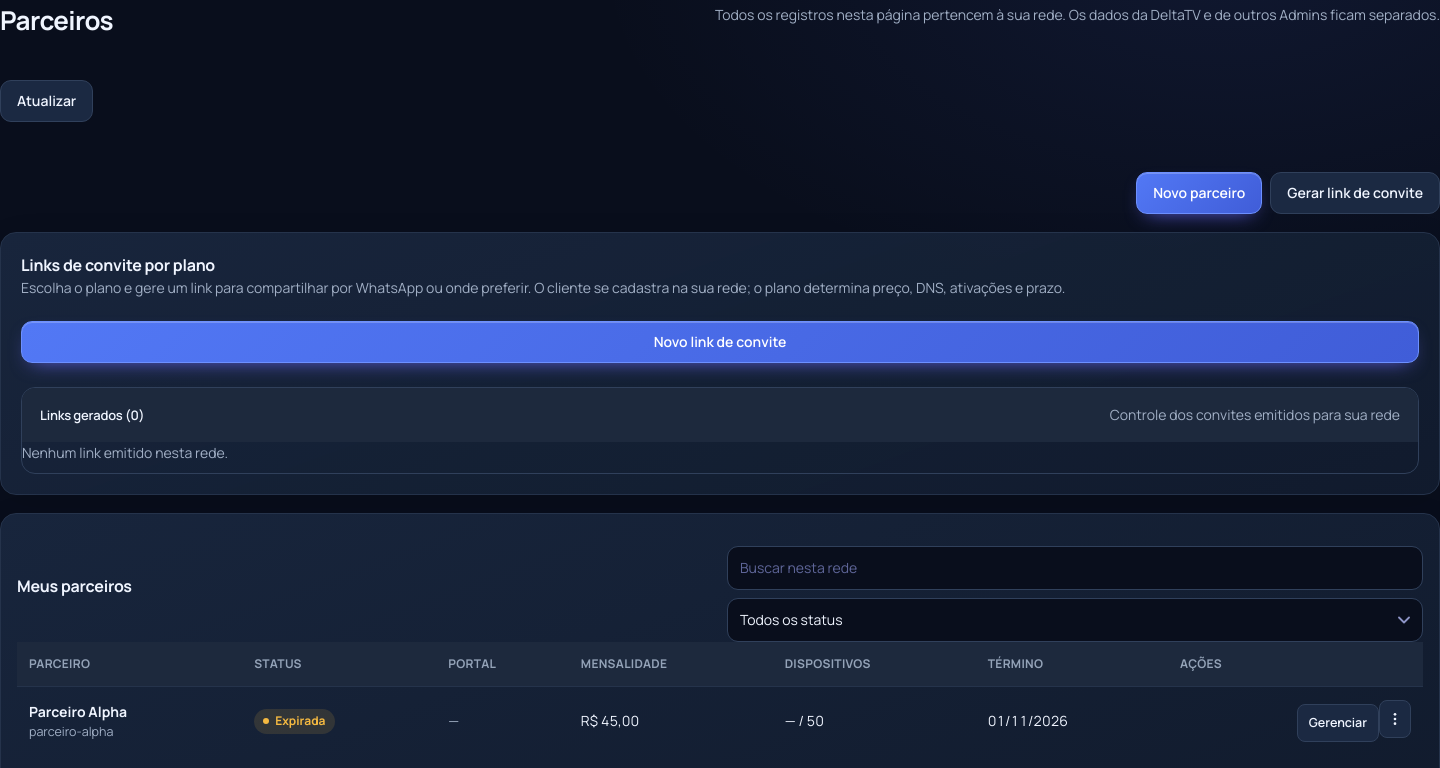
Ficha compartilhada de parceiros — Admin › edita contrato em submodal empilhado; Esc fecha apenas o de cima
Click the button "Gerenciar" at [1338, 723], box [1297, 704, 1379, 742]
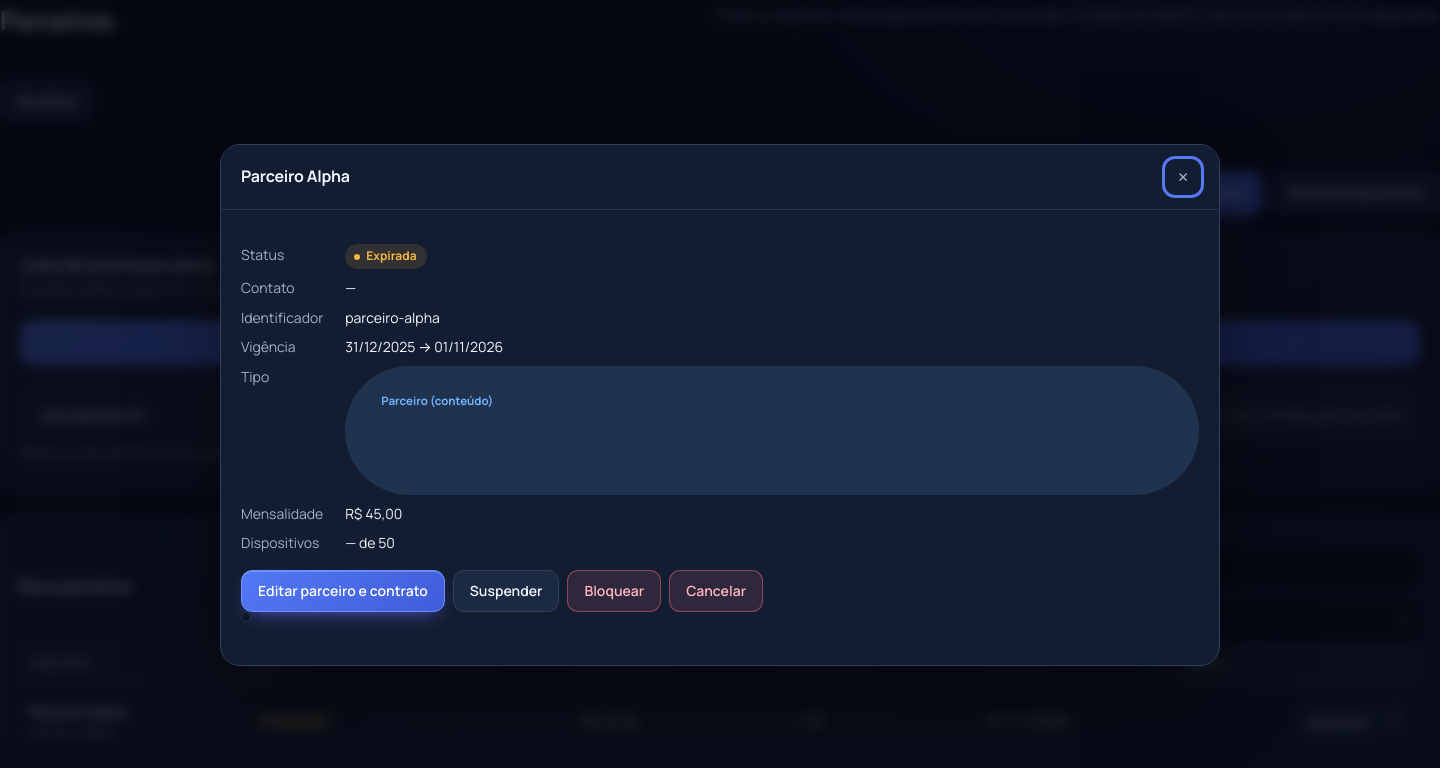
Click the button "Editar parceiro e contrato" at [343, 591], box [241, 570, 445, 612]
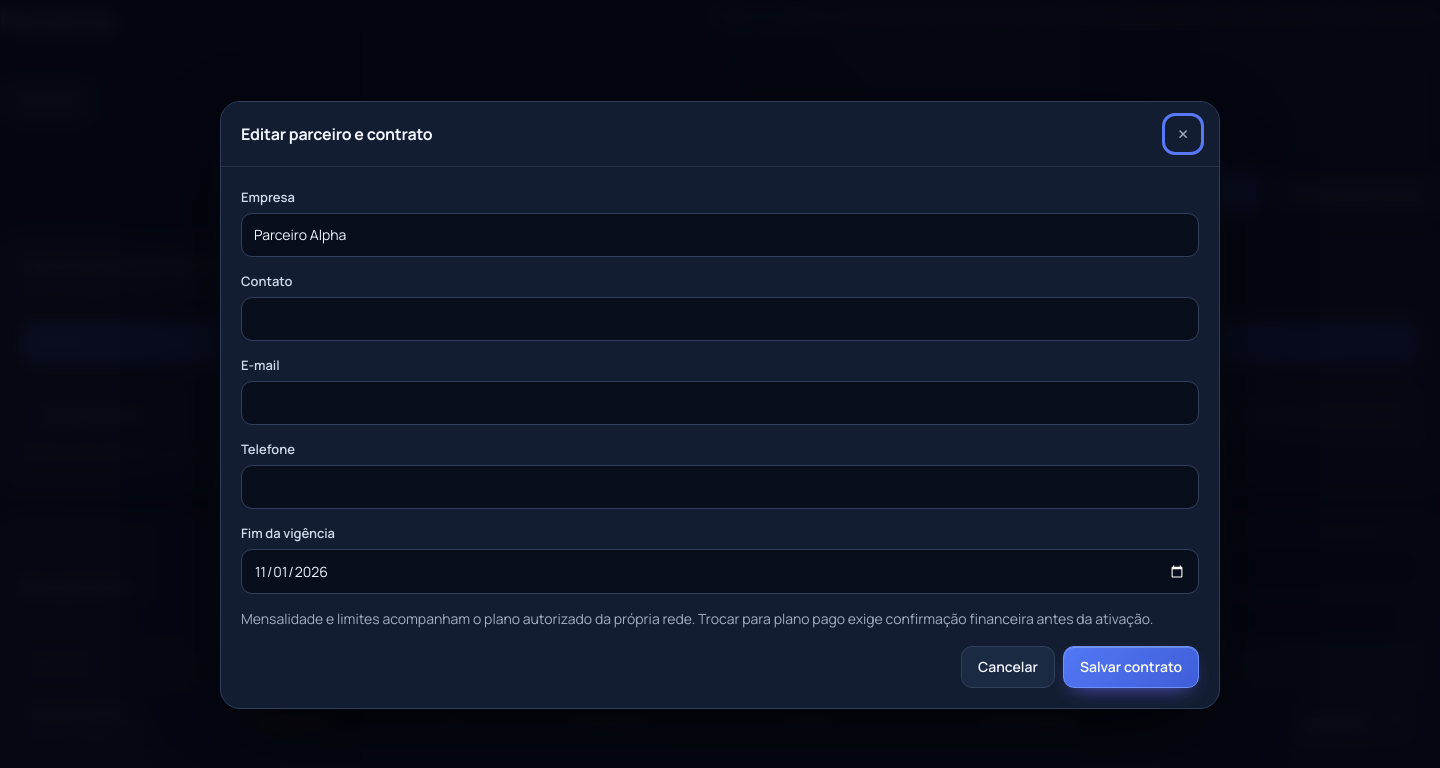
Now the number of dialogs is 2, box [220, 144, 1220, 666]; [220, 101, 1220, 709]
Now the dialog "Editar parceiro e contrato" is shown, box [220, 101, 1220, 709]
Press Escape
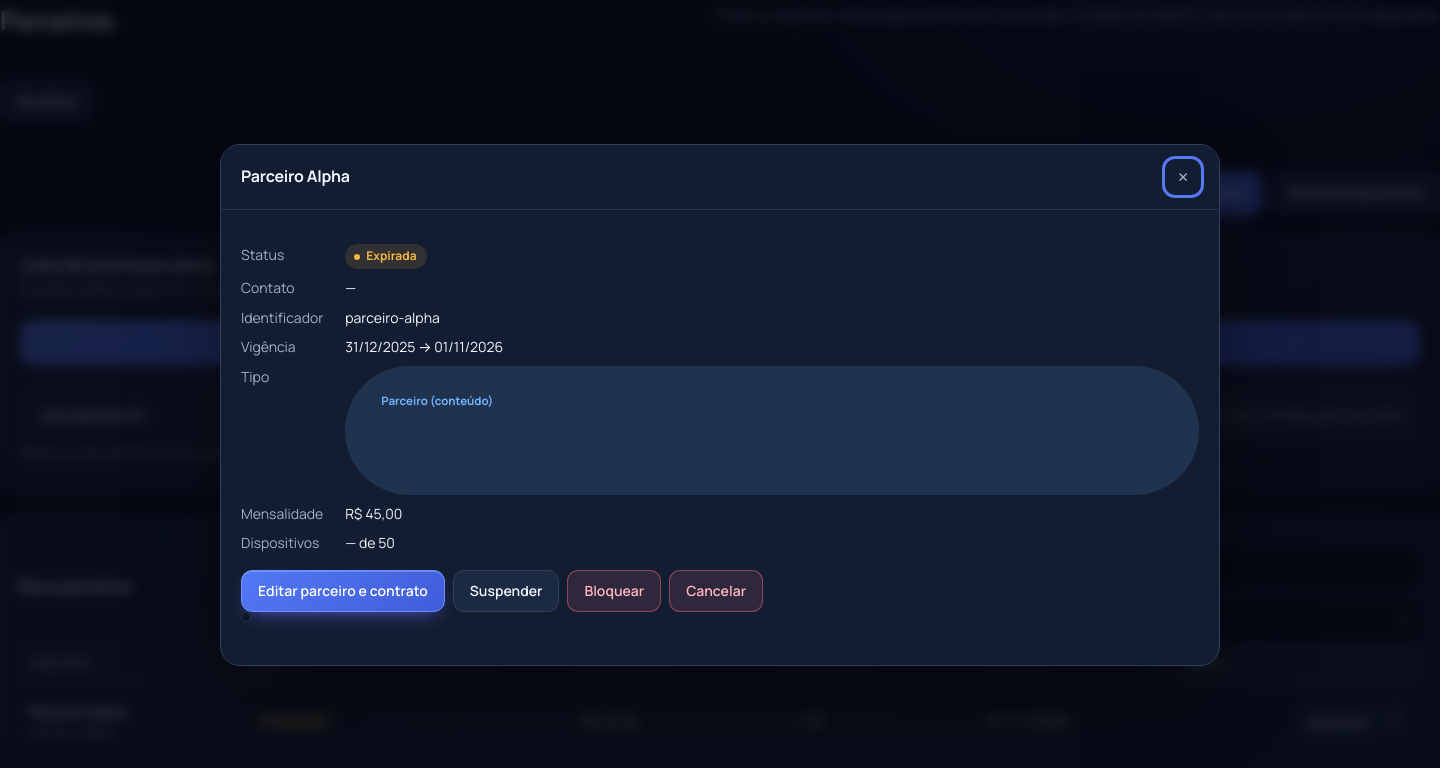
Now the number of dialogs is 1, box [220, 144, 1220, 666]
